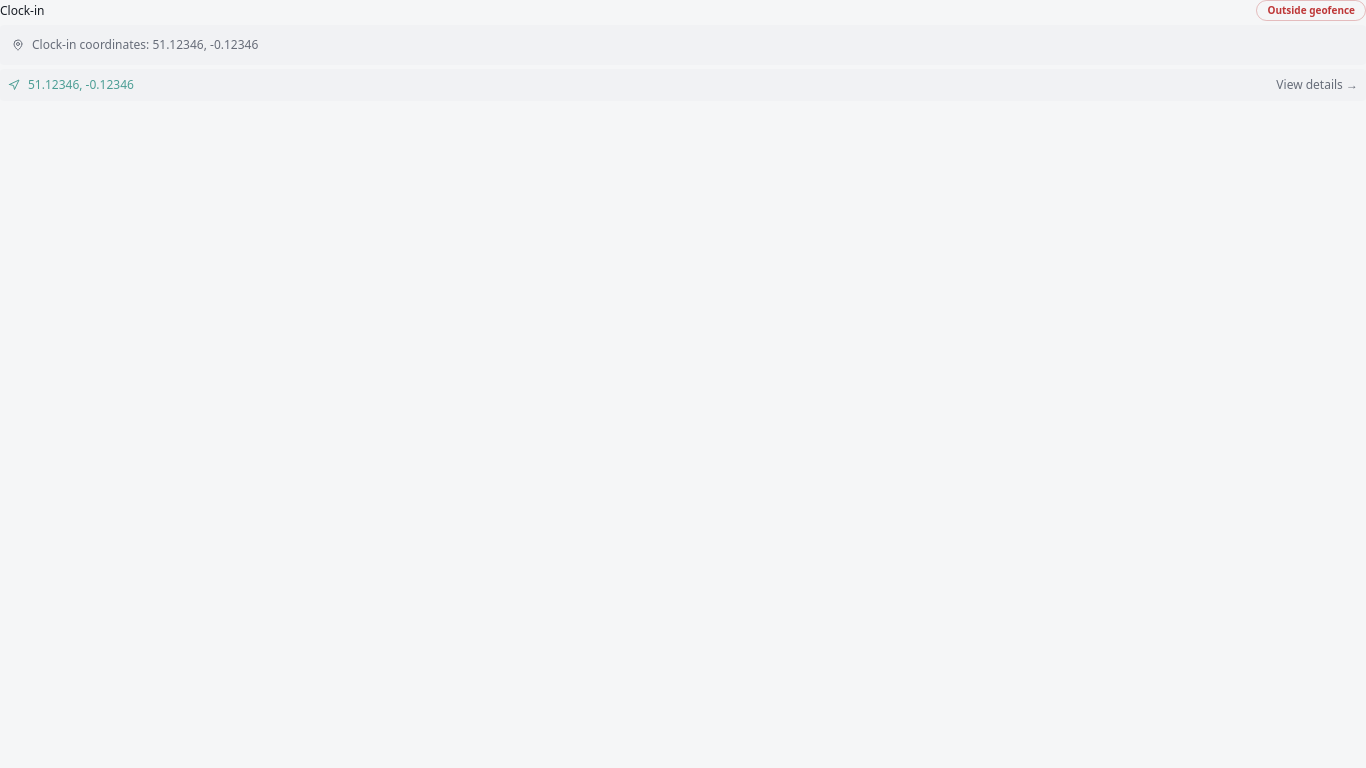
private clock location evidence › shows the recorded point and review status without loading an external map
Expected: the text "Outside geofence" is shown, [1256,0,1365,21]
Expected: the text "Clock-in coordinates: 51.12346, -0.12346" is shown, [32,37,258,53]
Click the button "51.12346, -0.12346 View details →" at coordinates (54, 84), box [0,69,1365,101]
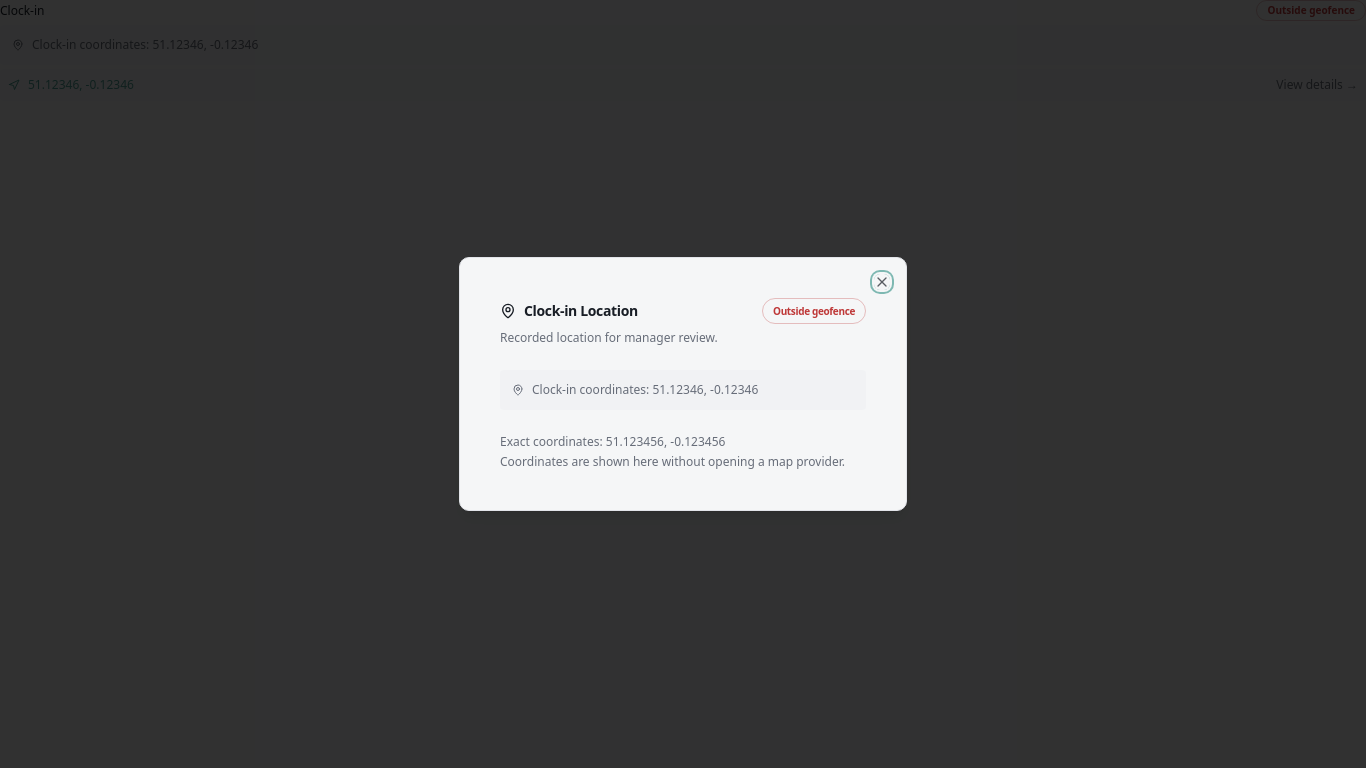
Now the text "Exact coordinates: 51.123456, -0.123456" is shown, box [500,433,725,450]
